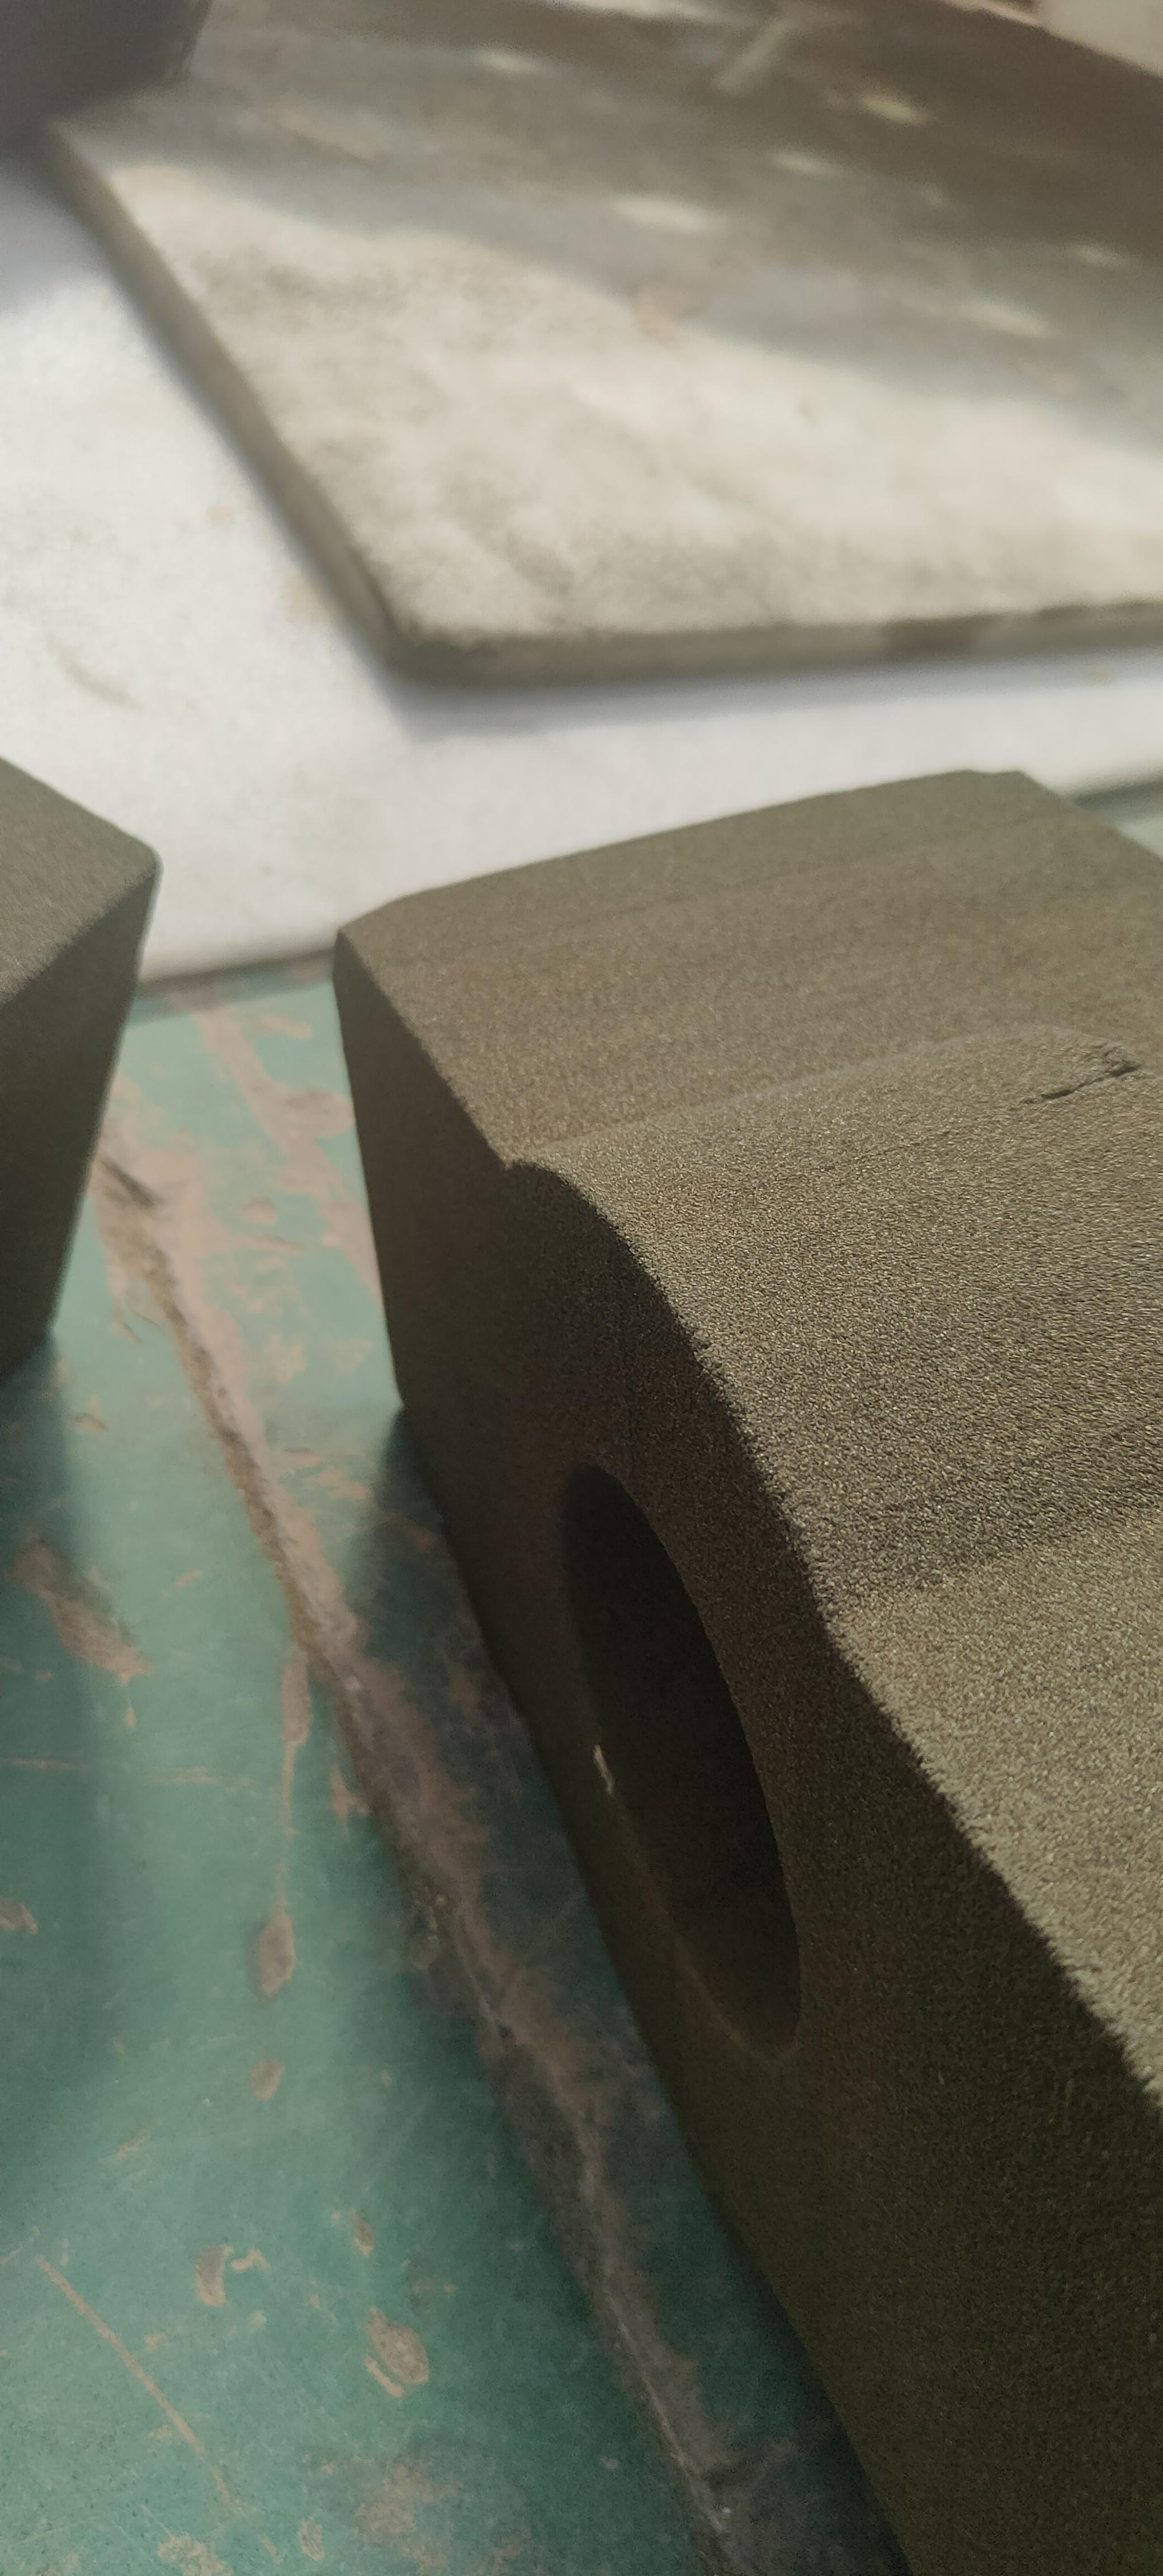pouring hole: (547, 1461, 803, 2072)
